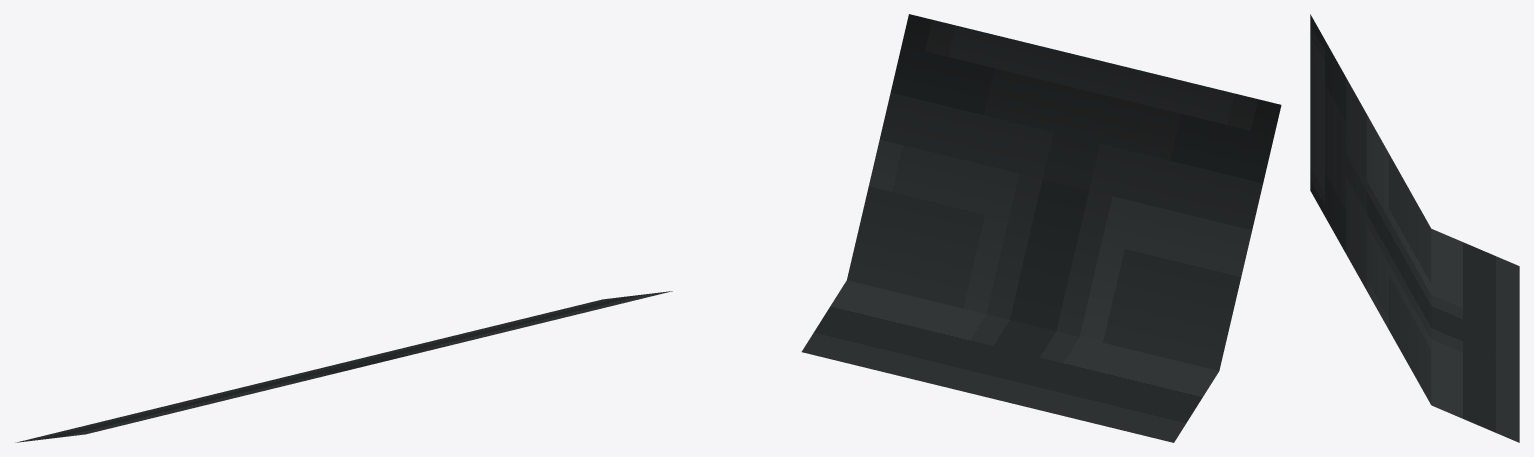
3 views of the same model, side by side, from view 1: azimuth 30°, elevation 25°; view 2: azimuth 150°, elevation 25°; view 3: azimuth 270°, elevation 25° (orthographic). The views are drawn at different scales.
Bounding box in the file's own units: 1 × 0.6652 × 0.5.
Materials: 1 (1 with a texture image).
